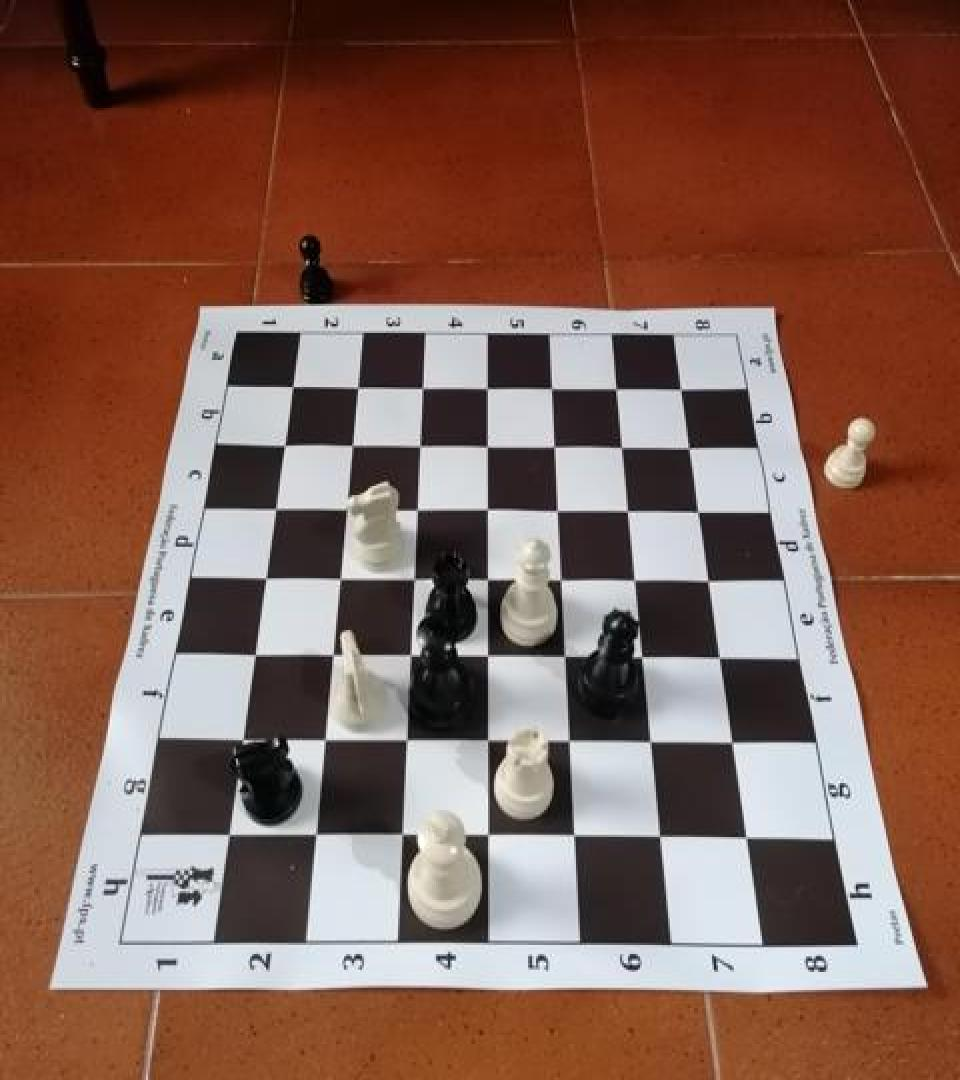xcorner: (536, 372, 566, 406), (471, 372, 501, 406), (406, 372, 436, 406), (340, 372, 370, 406), (275, 371, 305, 405), (675, 432, 705, 466), (607, 432, 637, 466), (539, 432, 569, 466), (471, 431, 501, 465), (403, 431, 433, 465), (335, 431, 365, 465), (267, 430, 297, 464), (684, 496, 714, 530), (613, 496, 643, 530), (542, 496, 572, 530), (471, 495, 501, 529), (400, 495, 430, 529), (329, 495, 359, 529), (258, 494, 288, 528), (694, 567, 724, 601), (620, 566, 650, 600), (545, 566, 575, 600), (471, 566, 501, 600), (627, 644, 657, 678), (549, 644, 579, 678), (471, 642, 501, 676), (393, 642, 423, 676), (315, 642, 345, 676), (237, 641, 267, 675), (718, 730, 748, 764), (636, 729, 666, 763), (553, 729, 583, 763), (471, 728, 501, 762), (389, 728, 419, 762), (307, 728, 337, 762), (224, 726, 254, 760), (732, 824, 762, 858), (645, 824, 675, 858), (558, 824, 588, 858), (471, 824, 501, 858), (384, 822, 414, 856), (298, 822, 328, 856), (211, 822, 241, 856), (666, 374, 696, 407), (601, 374, 631, 407), (396, 565, 426, 598), (322, 565, 352, 598), (248, 565, 278, 598), (706, 645, 736, 678)
